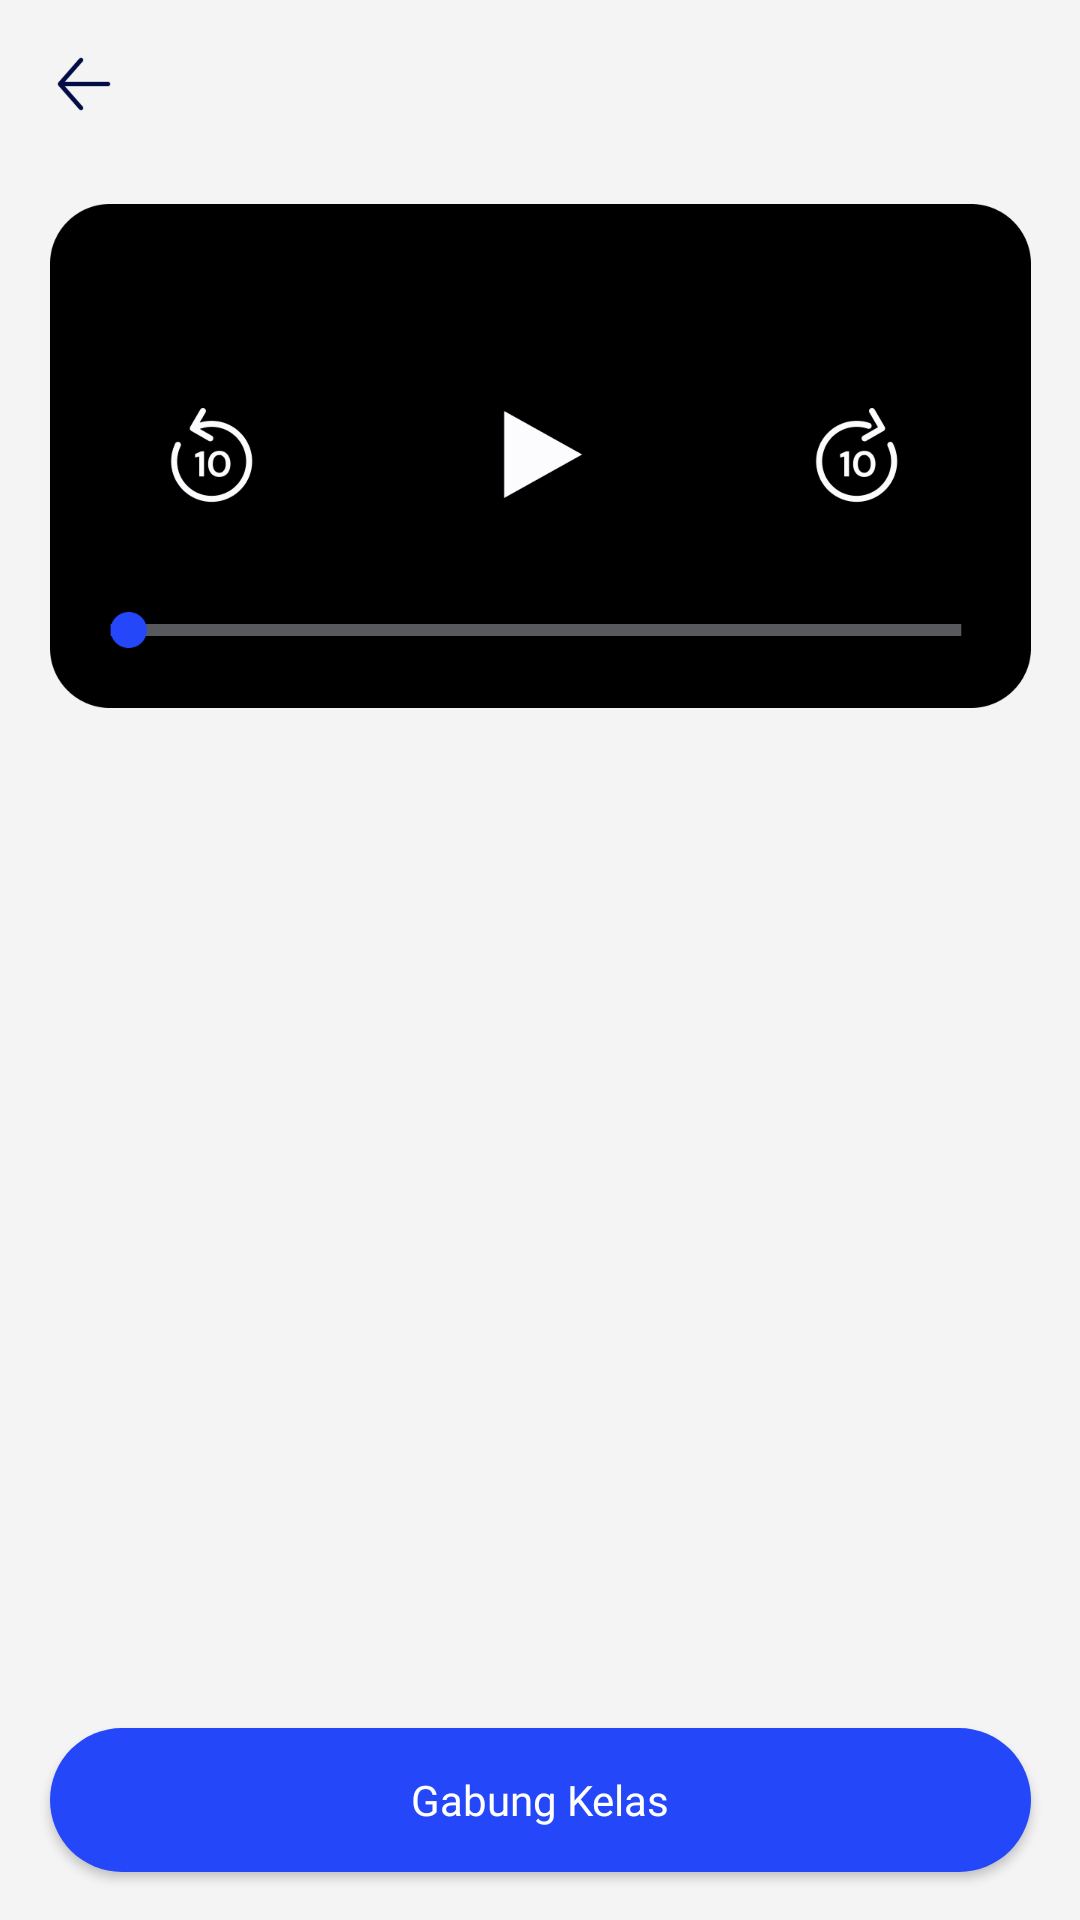

Screen size 1080×1920. Icon name, then its center in pixels as (x=x, y=y):
back: (x=84, y=84)
